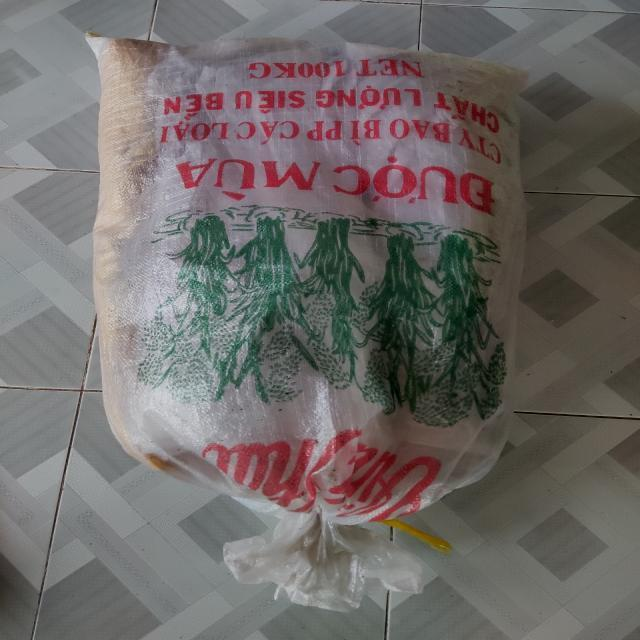gunny_bag: (87, 35, 527, 613)
